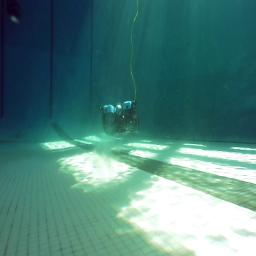front: (98, 99, 140, 135)
